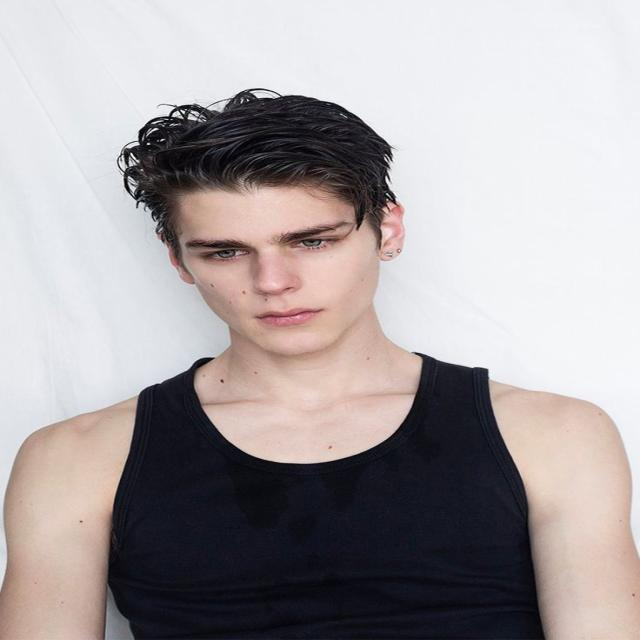earlobe: (156, 229, 197, 286), (378, 200, 406, 262)
